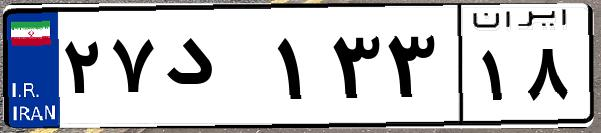1: (270, 28, 330, 110), (475, 38, 525, 113)
2: (57, 26, 110, 100)
3: (385, 28, 445, 110), (330, 28, 385, 110)
7: (110, 28, 158, 98)
8: (525, 38, 570, 115)
د: (158, 20, 270, 120)
